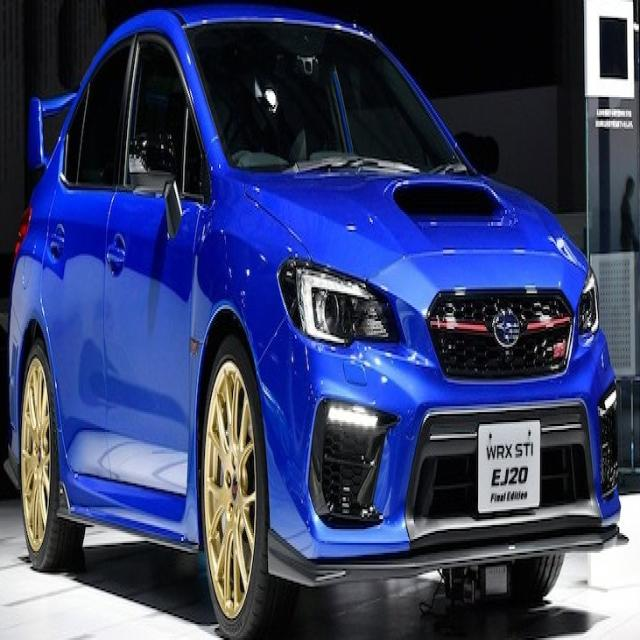blue: (9, 32, 640, 640)
